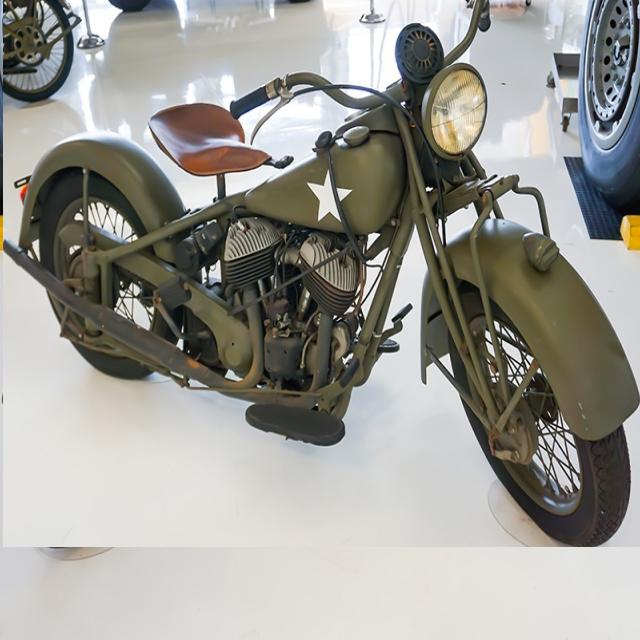motorcycle: (3, 0, 639, 547)
